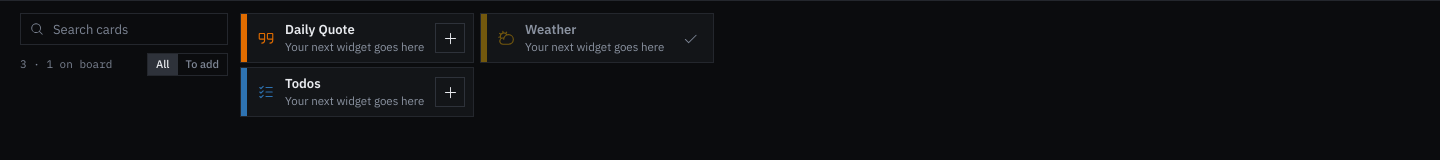
Test: search › counts the cards, and the matches while filtering
The width and height of the screenshot is (1440, 160).
Expected: the text "3 · 1 on board" is shown, [20, 56, 112, 72]
Type "quo" into the search field labelled "Search cards". click: (124, 29)
box: [20, 13, 228, 45]
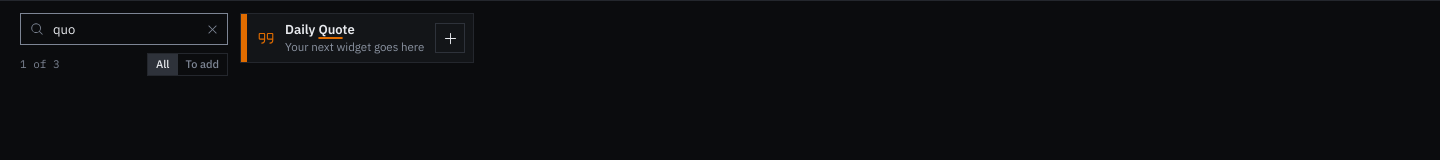
Expected: the text "1 of 3" is shown, [20, 56, 60, 72]
